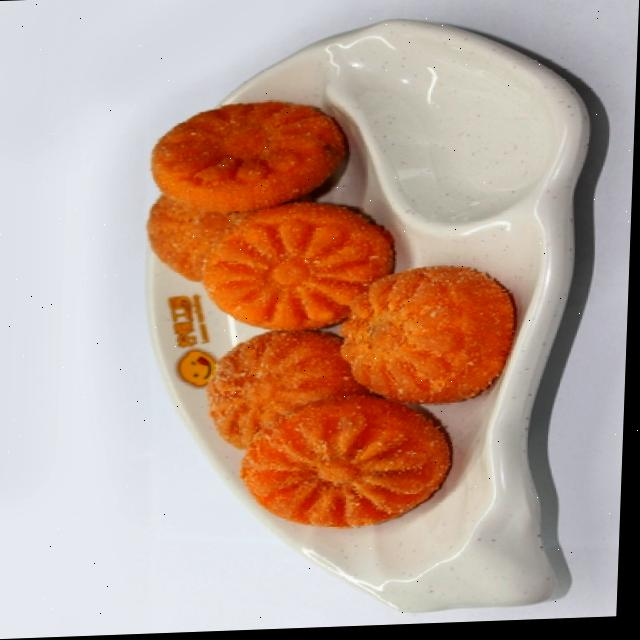炸货点心: (125, 63, 553, 575)
蛋糕甜品: (125, 63, 553, 575)
